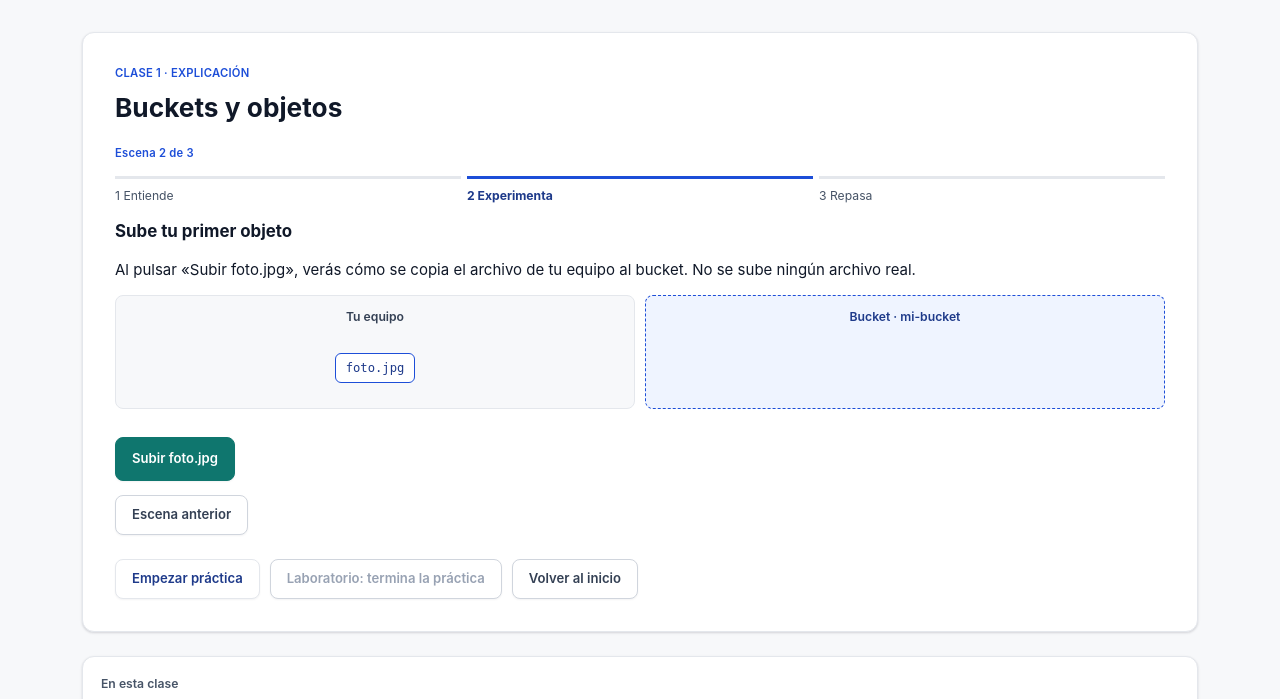
Scenario: the bucket pilot goes from the concept through a simulated upload to a retryable review
The image size is (1280, 699).
Earlier steps of the test are not shown.
expect the text "Escena 2 de 3" is shown: met, box left=115, top=146, right=194, bottom=160
expect the text "Objeto guardado en mi-bucket." is not shown: met
Press Tab
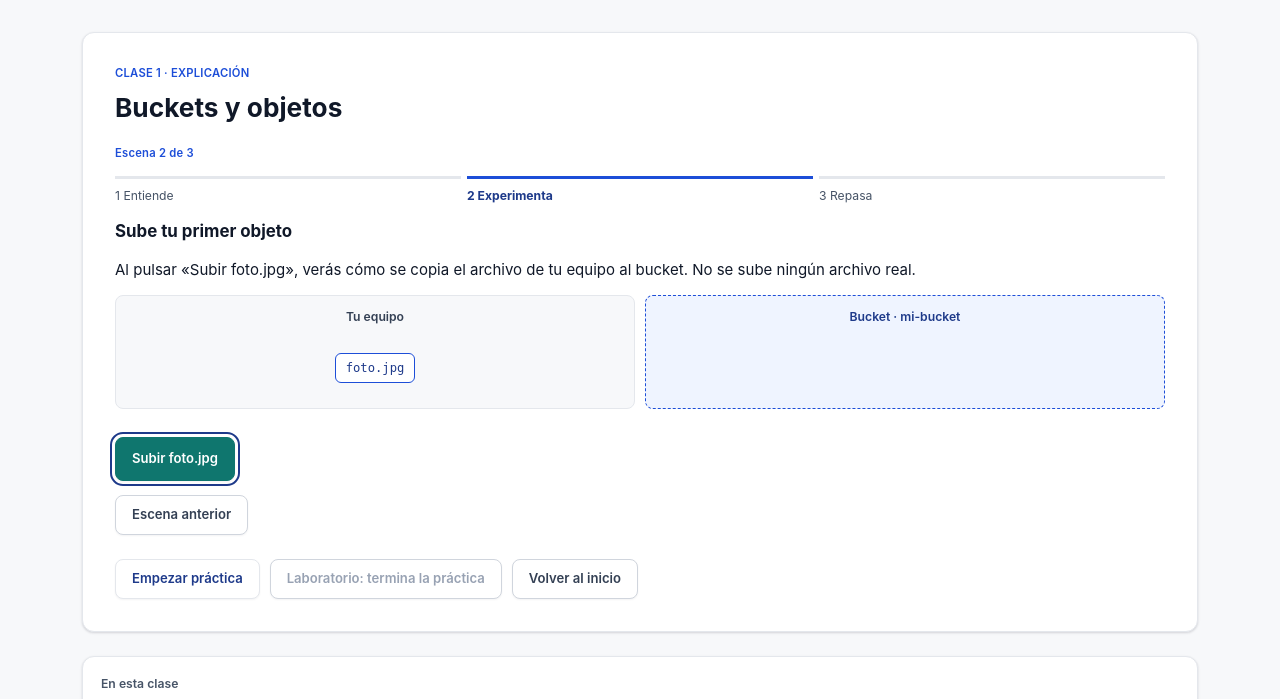
Press Enter
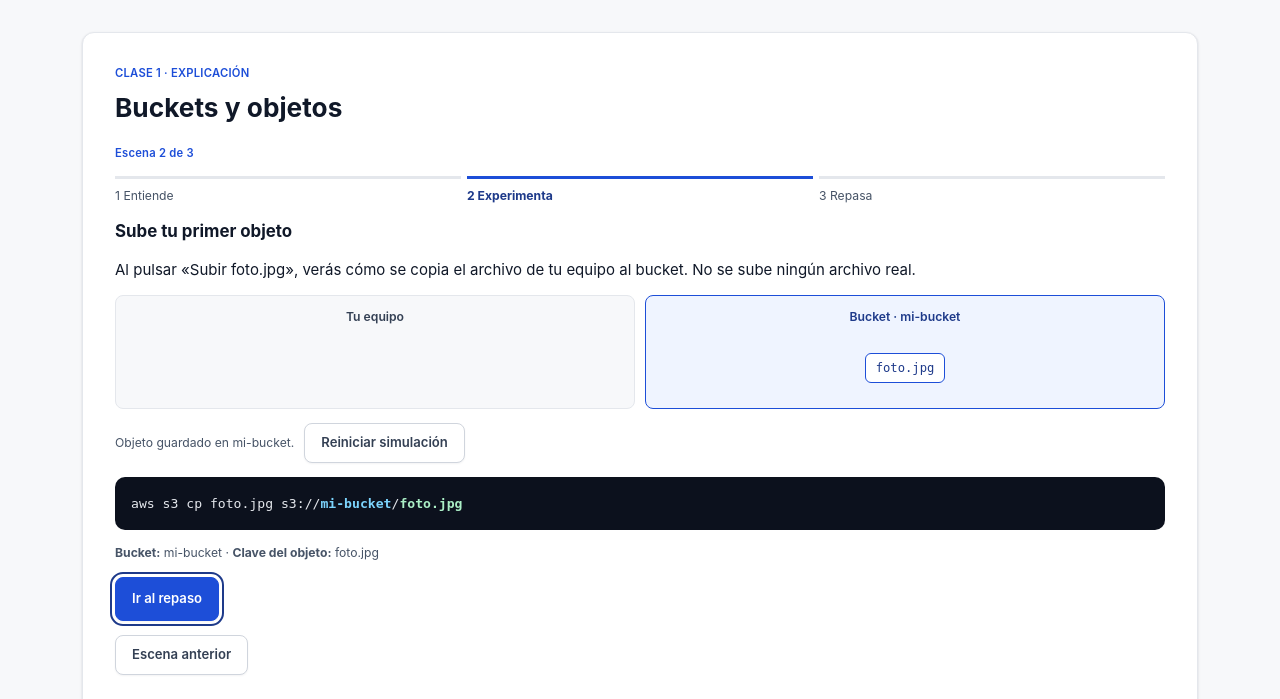
expect the message reads "Objeto guardado en mi-bucket.": met, box left=115, top=435, right=294, bottom=450
expect the text "mi-bucket" is shown: met, box left=320, top=496, right=391, bottom=511
expect the text "foto.jpg" in the row of "aws s3 cp foto.jpg s3://" is shown: met, box left=399, top=496, right=462, bottom=511
Click the button "Ir al repaso".
click(167, 598)  # box left=115, top=576, right=219, bottom=620
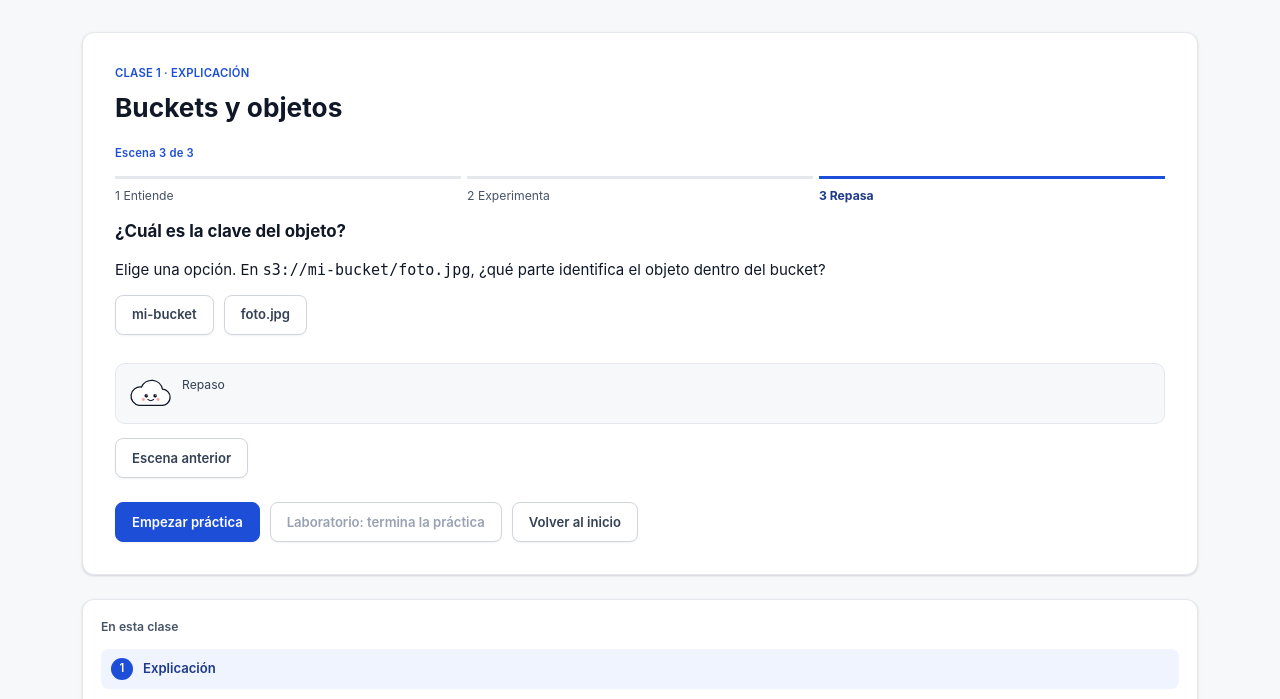
Click the button "mi-bucket".
click(164, 315)  # box left=115, top=295, right=214, bottom=335
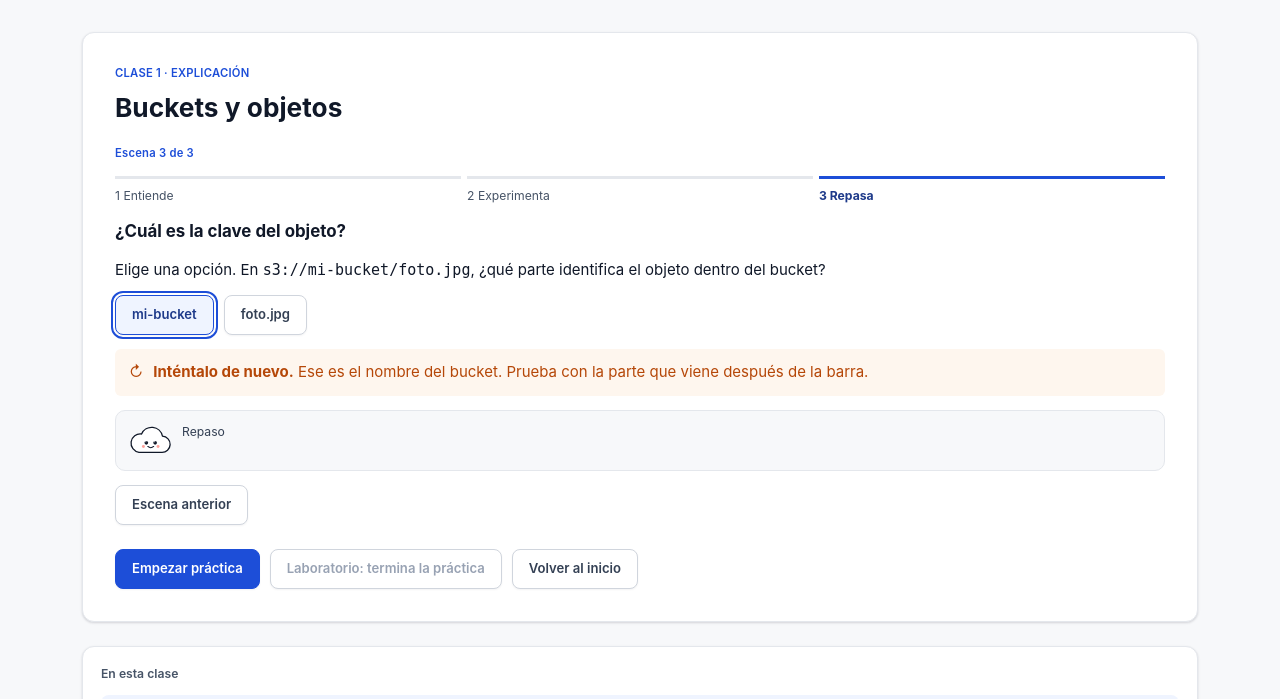
expect the message shows "Inténtalo de nuevo. Ese es el nombre del bucket": met, box left=115, top=349, right=1165, bottom=396
Click the button "foto.jpg".
click(265, 315)  # box left=224, top=295, right=307, bottom=335
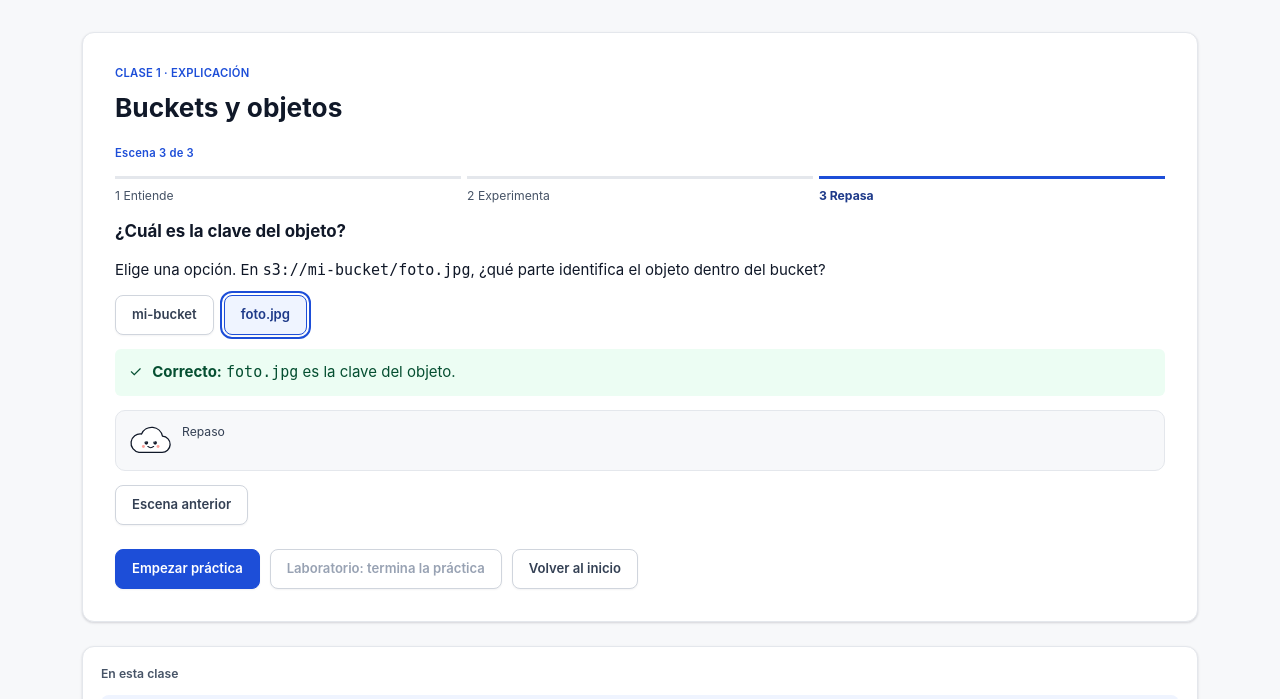
expect the message shows "Correcto: foto.jpg es la clave del objeto.": met, box left=115, top=349, right=1165, bottom=396
Click the button "Escena anterior".
click(182, 505)  # box left=115, top=485, right=248, bottom=525
(page scrolled)
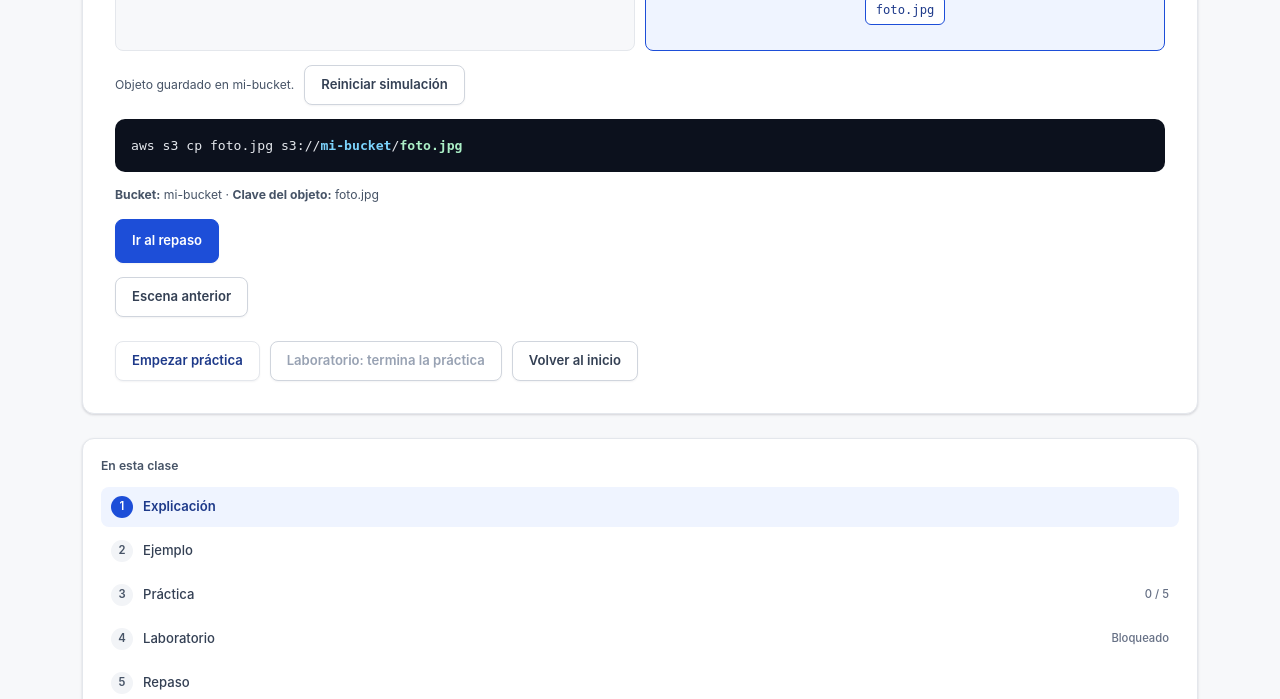
expect the button "Empezar práctica" is enabled: met, box left=115, top=340, right=260, bottom=380
expect the message reads "Objeto guardado en mi-bucket.": met, box left=115, top=77, right=294, bottom=92
